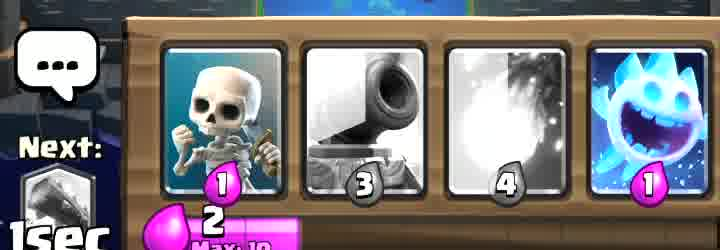ice-spirit: (595, 45, 711, 199)
